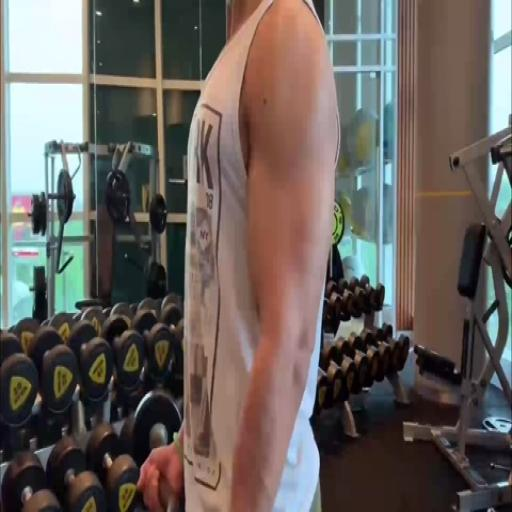exercise: (134, 0, 344, 511)
